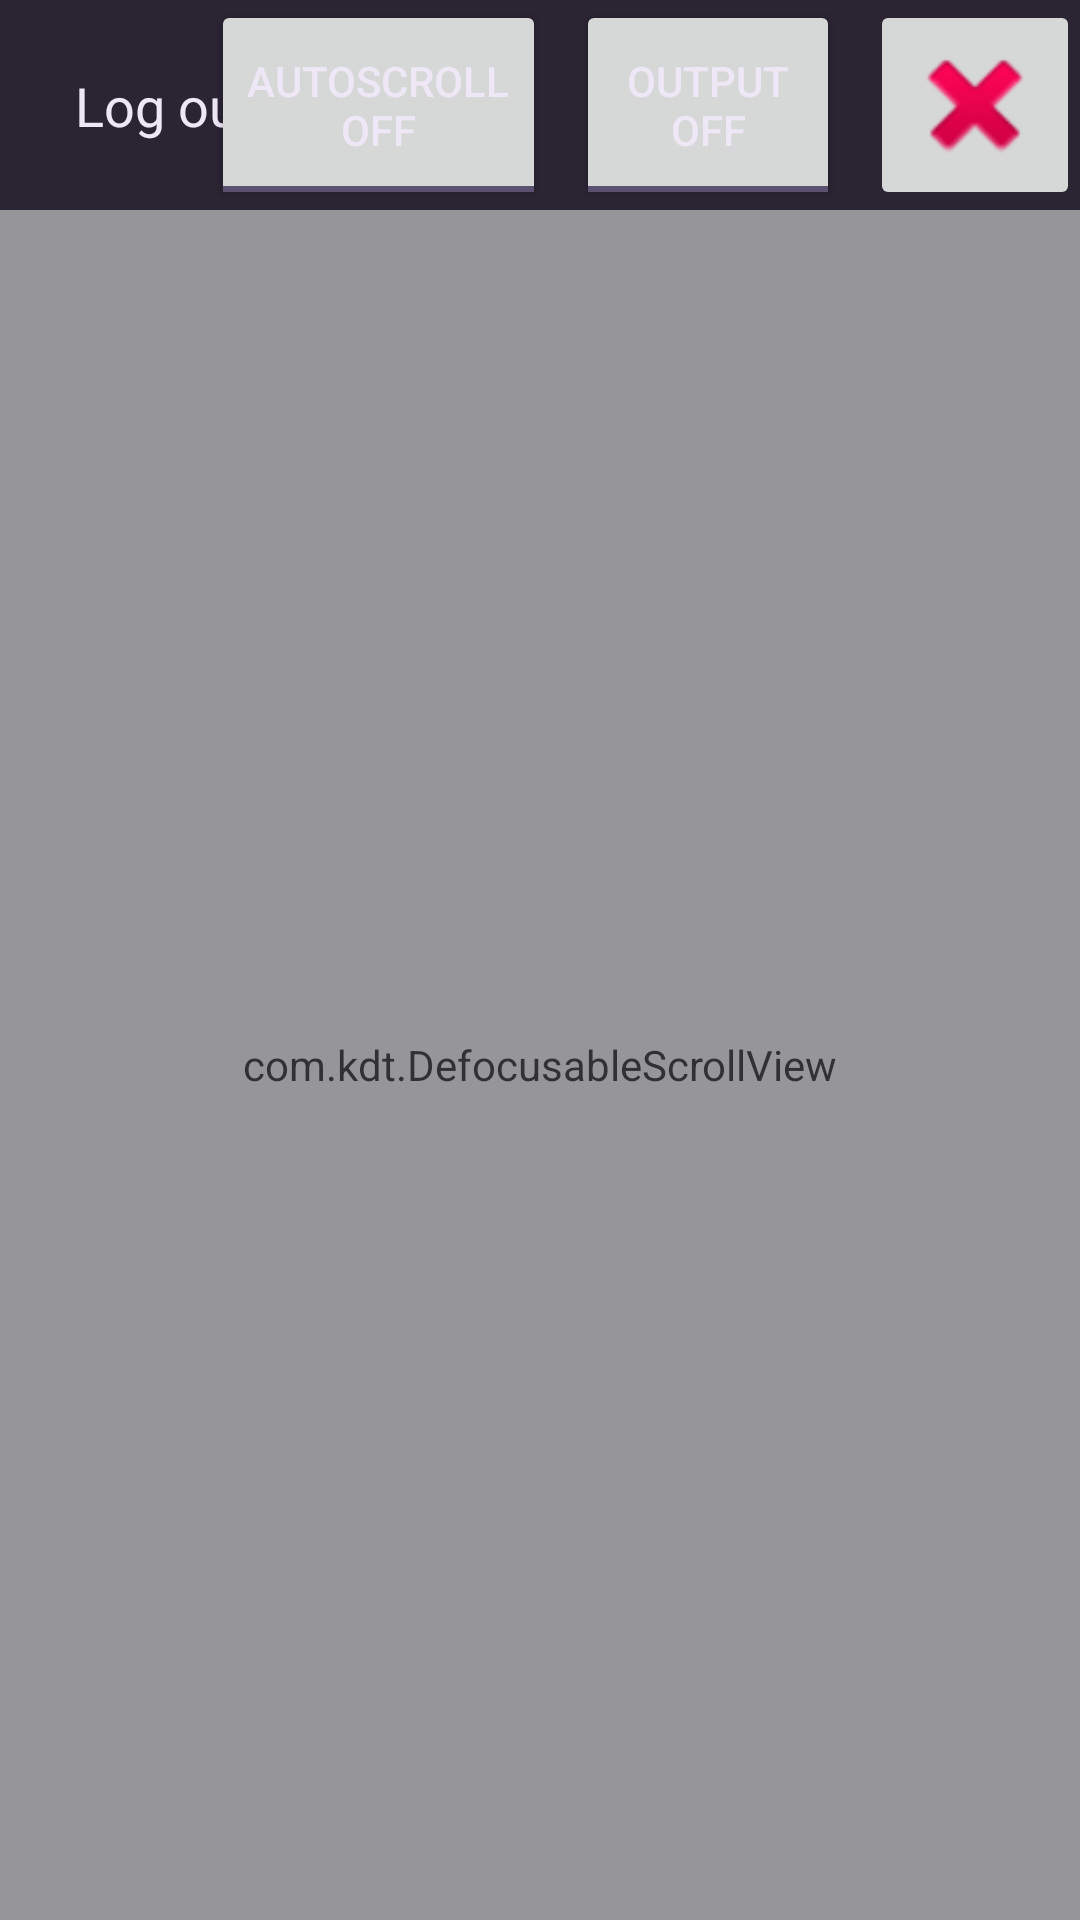

Where icons sit on this 1080 × 1920 app screen, as [left=x1, top=y1, right=x2, bottom=y2]:
delete: [left=882, top=18, right=1068, bottom=192]
